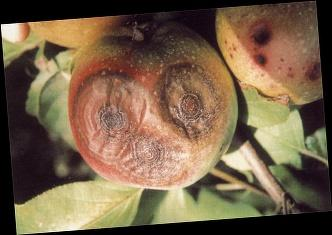rotten apple: (60, 24, 240, 196)
